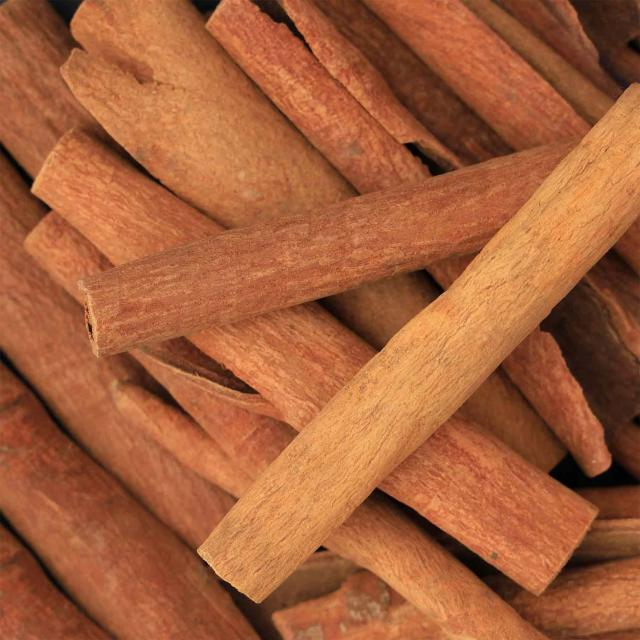Cinnamon: (0, 0, 640, 640), (183, 68, 640, 617), (76, 137, 578, 375)
